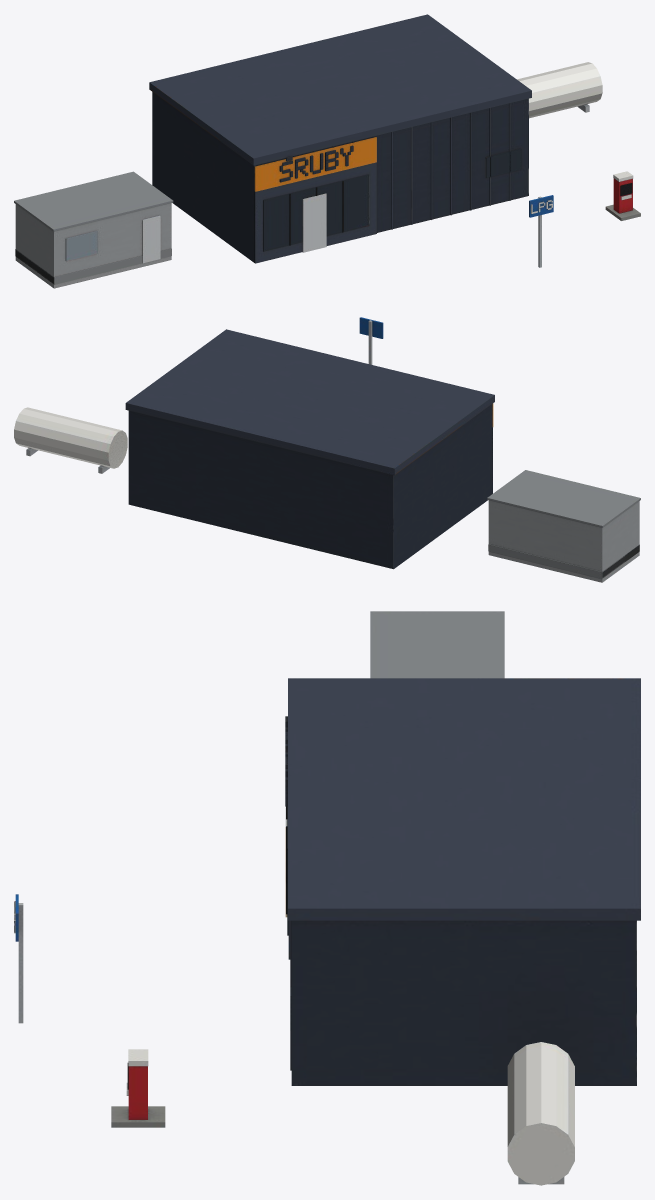
File: lpg.glb
3 renders of one model, top to bottom at view 1: azimuth 30°, elevation 25°; view 2: azimuth 150°, elevation 25°; view 3: azimuth 270°, elevation 25°, orthographic. The views are drawn at different scales.
Visible parts, largest first — view 1: lpg; view 2: lpg; view 3: lpg.
Boxes of the visible parts, bbox=[...] form: lpg: bbox=[14, 14, 640, 288]; lpg: bbox=[14, 317, 640, 582]; lpg: bbox=[14, 611, 640, 1185].
Bounding box in the file's own units: 30.05 × 5.15 × 16.34.
1 material, 1 textured.
